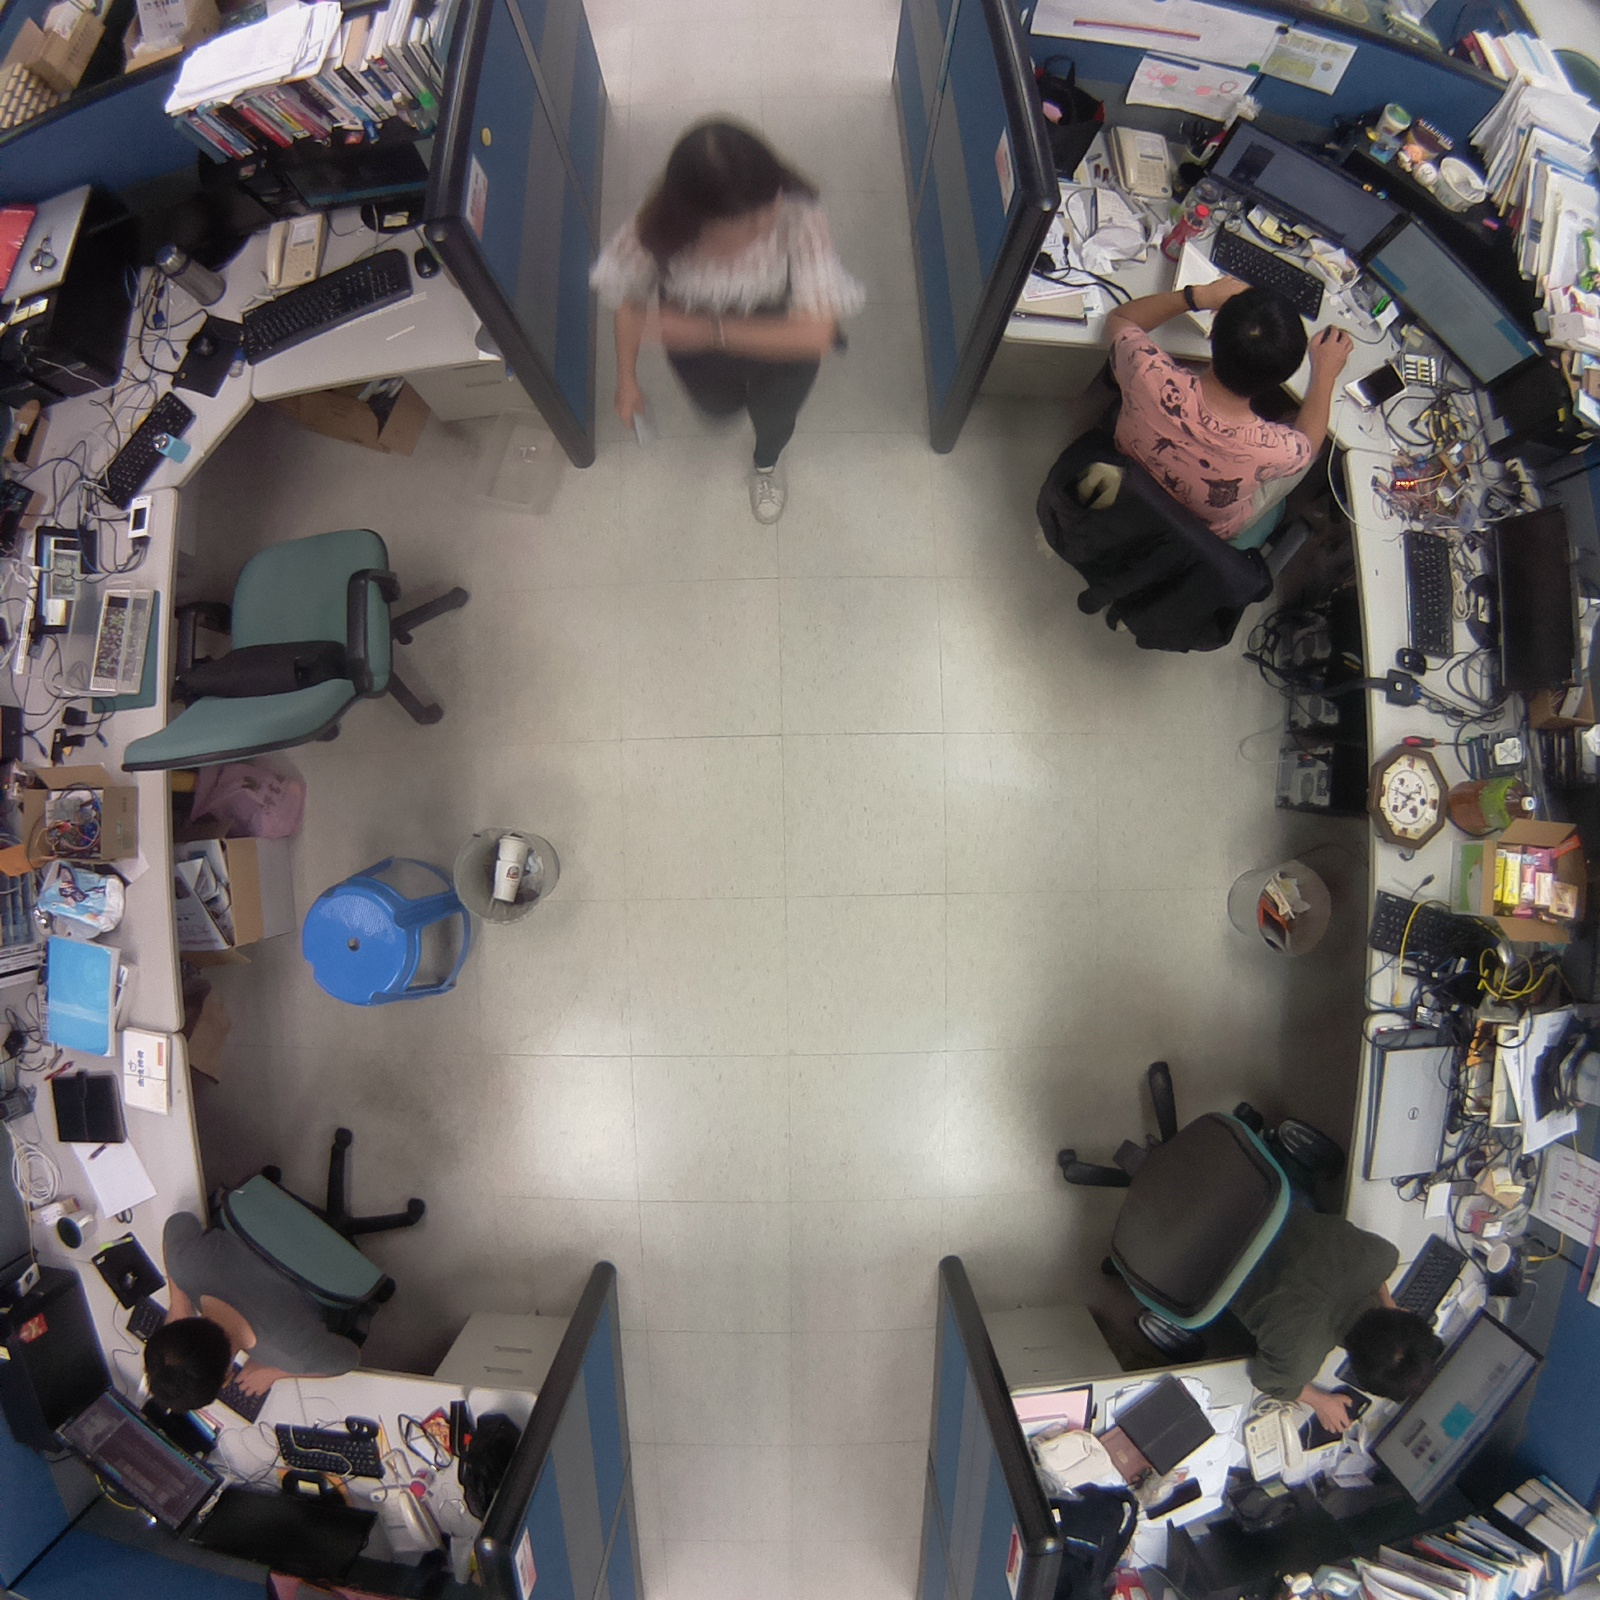chair: (109, 509, 488, 793)
head: (627, 110, 833, 274), (1205, 282, 1311, 396), (1343, 1302, 1448, 1408)
sitting: (1029, 1040, 1456, 1429), (1027, 255, 1353, 675), (125, 1111, 442, 1415)
walking: (584, 112, 871, 546)
